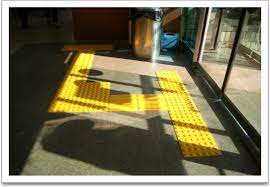guide_blocks: (47, 92, 193, 110), (171, 112, 221, 157), (63, 51, 94, 82), (157, 70, 181, 106), (58, 81, 109, 95), (62, 44, 110, 50)
